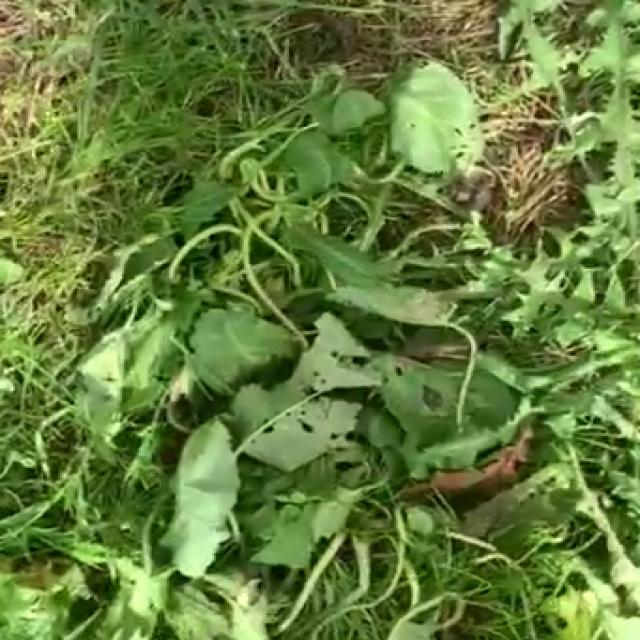organic waste: (132, 238, 542, 522), (68, 52, 499, 314)
